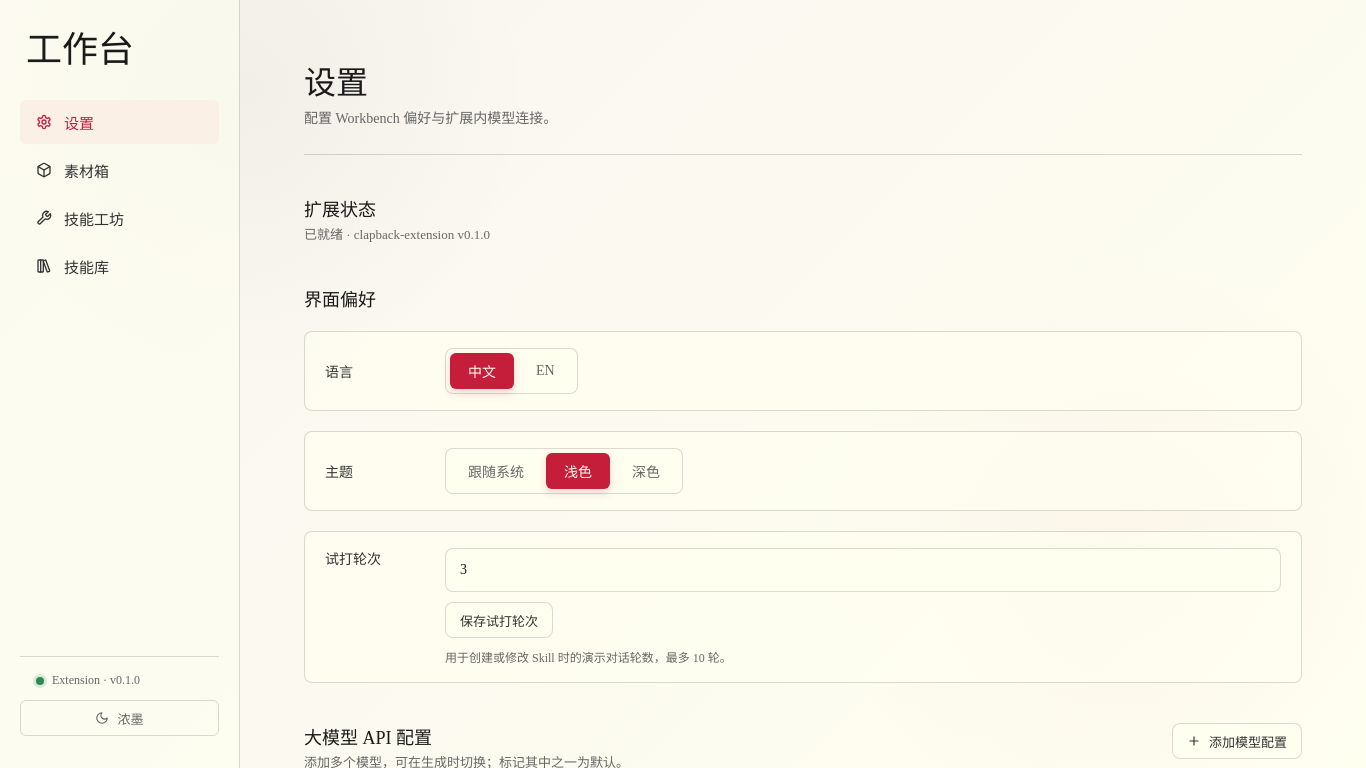
Workbench App › shows a recoverable tryout error when the model reply is outside the target length range
This screenshot has width=1366, height=768.
Click the tab "技能工坊" at (120, 218), box x1=20 y1=196 x2=219 y2=240
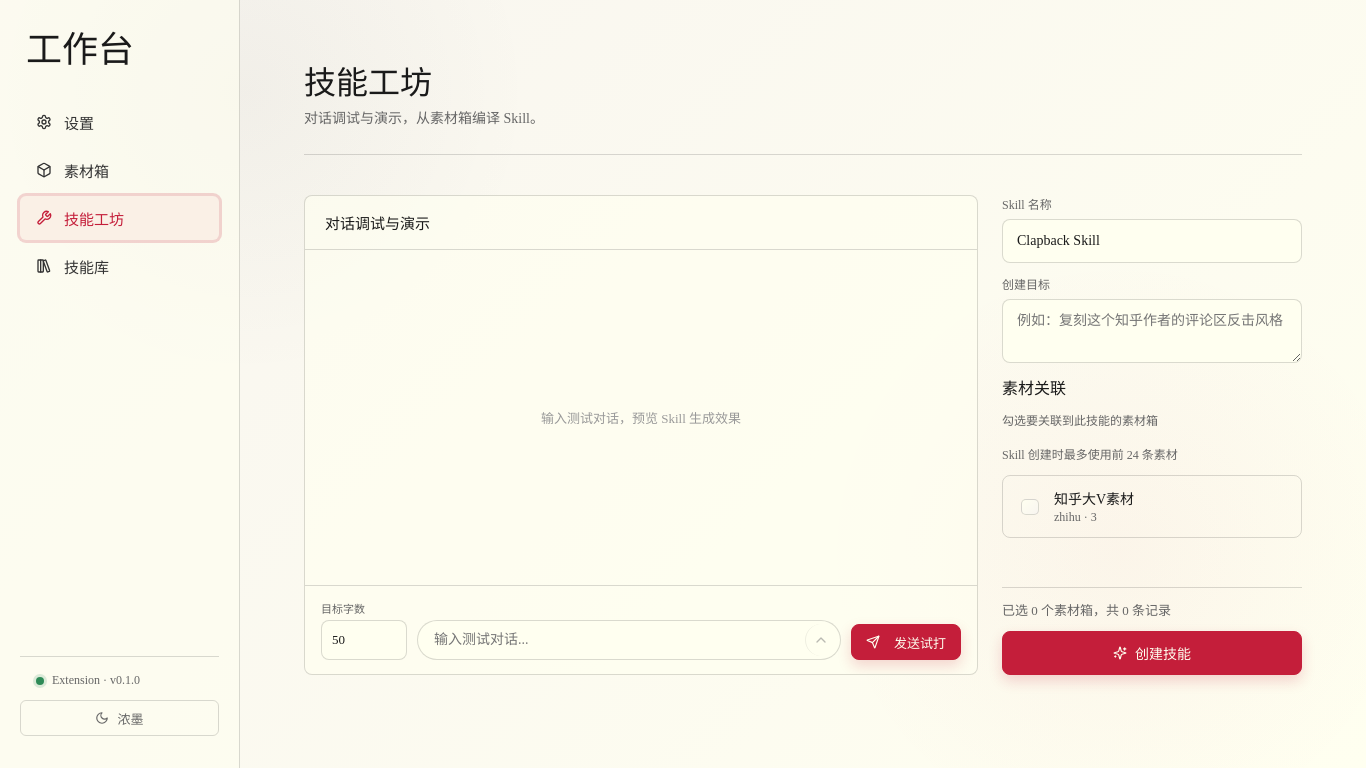
Type "creator goal" into the text box labelled "创建目标" at (1152, 331), box x1=1002 y1=299 x2=1302 y2=363
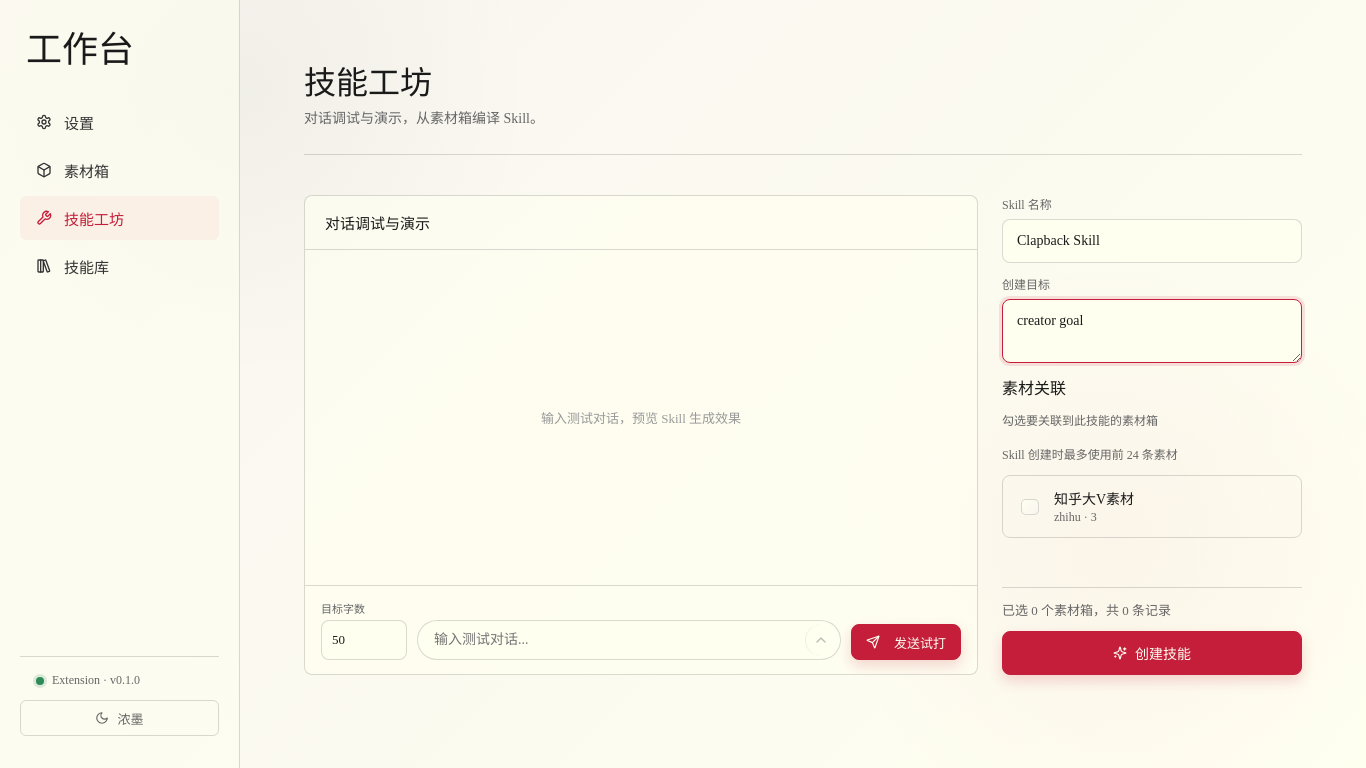
Click the checkbox labelled "知乎大V素材" at (1030, 507), box x1=1021 y1=499 x2=1039 y2=515
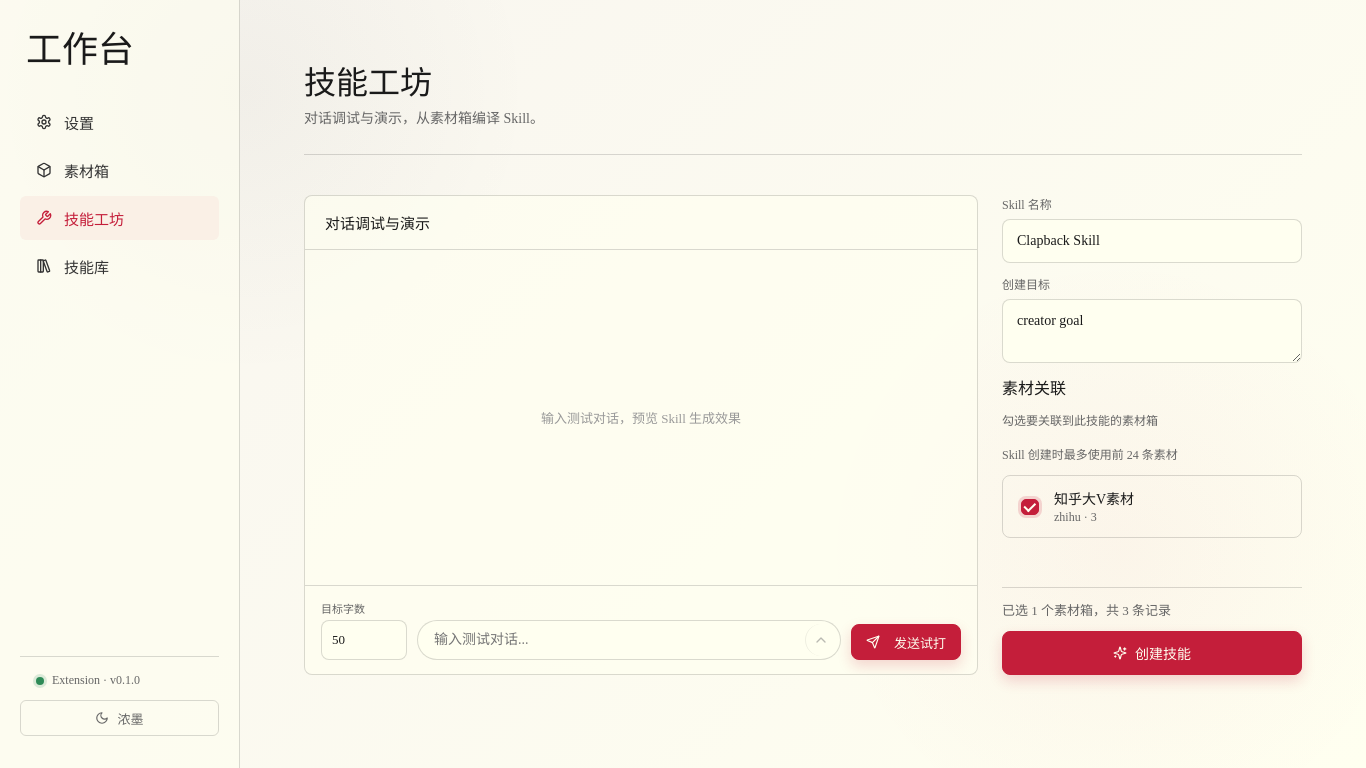
Click the button "创建技能" at (1152, 653), box x1=1002 y1=631 x2=1302 y2=675
(page scrolled)
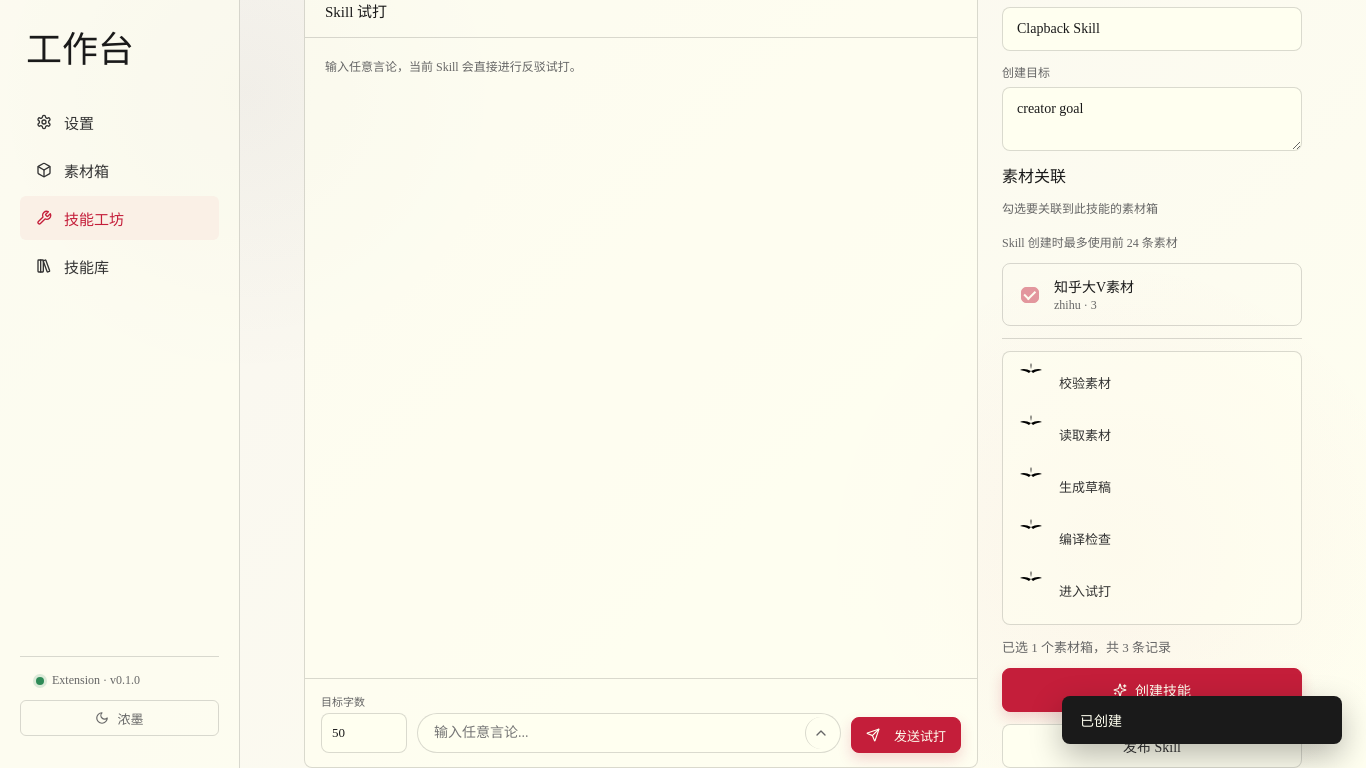
expect the text "输入任意言论，当前 Skill 会直接进行反驳试打。" is shown: met, box x1=325 y1=60 x2=582 y2=74
Type "这个观点没问题" into the field with placeholder "输入任意言论..." at (629, 733), box x1=417 y1=713 x2=841 y2=753
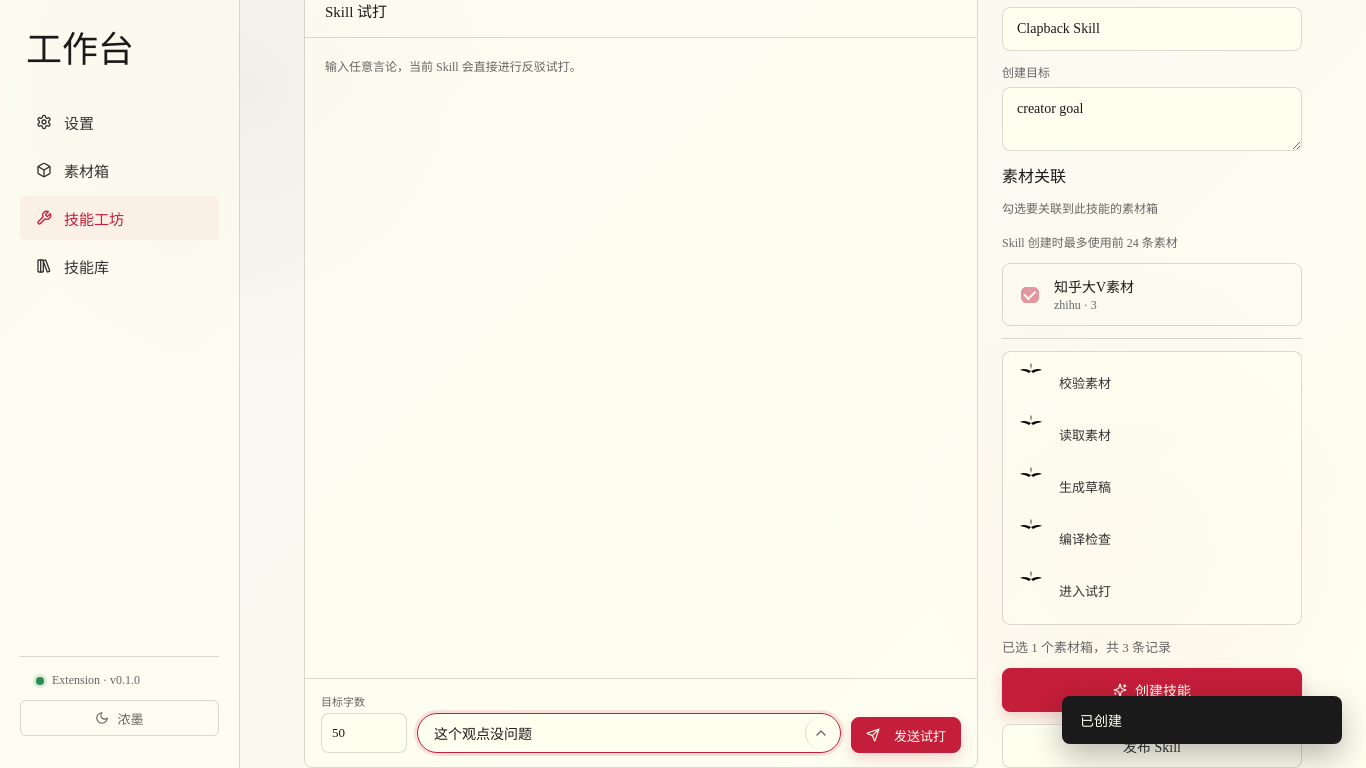
Click the button "发送试打" at (906, 735), box x1=851 y1=717 x2=961 y2=753
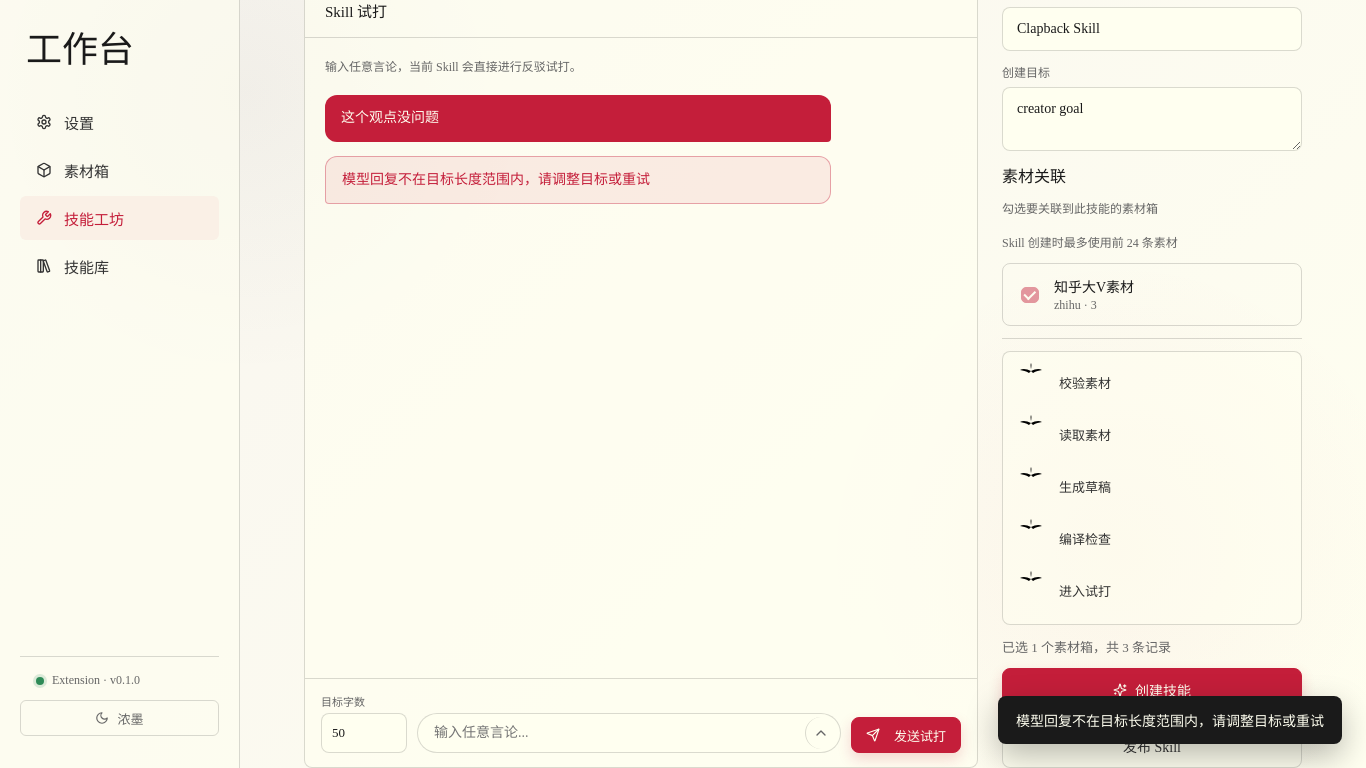
expect the text "模型回复不在目标长度范围内，请调整目标或重试" is shown: met, box x1=325 y1=156 x2=831 y2=204
